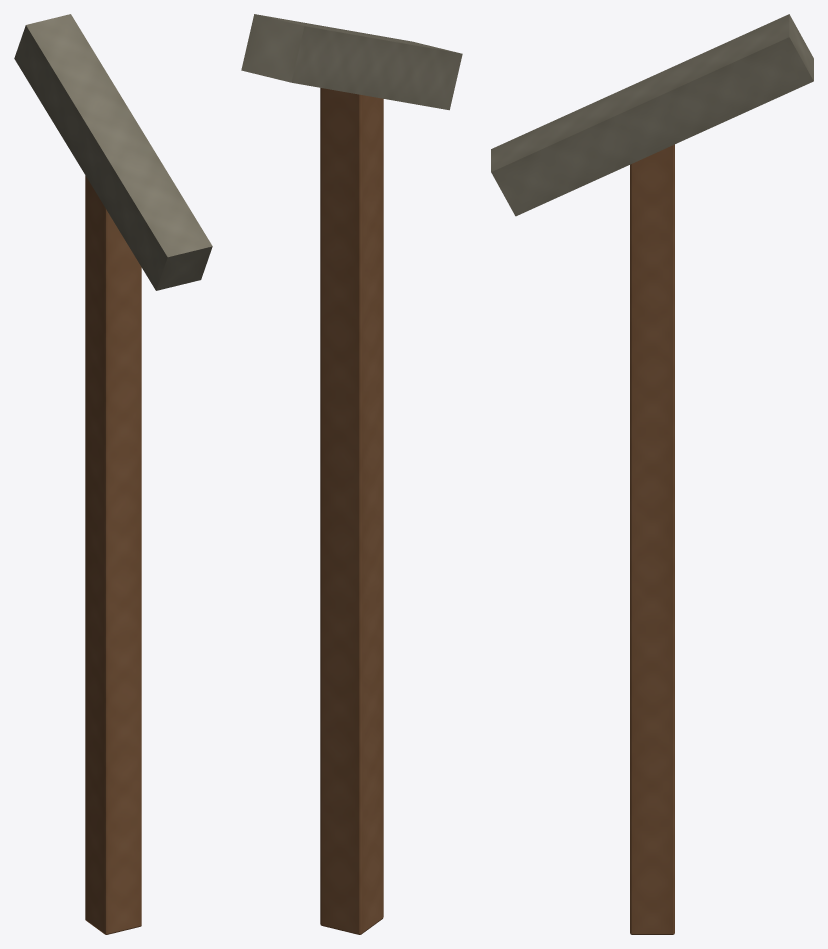
Rendered from MRP_StairRailStep_Left.fbx.
3 renders of one model, left to right at view 1: azimuth 30°, elevation 25°; view 2: azimuth 150°, elevation 25°; view 3: azimuth 270°, elevation 25°, orthographic. The views are drawn at different scales.
Parts seen in each view (by area): view 1: Body; view 2: Body; view 3: Body.
Part boxes in pixels (left/top/right/bottom): Body: left=14, top=14, right=212, bottom=934; Body: left=241, top=14, right=462, bottom=934; Body: left=491, top=14, right=813, bottom=934.
Size of the model in its own units: 0.055 by 0.9996 by 0.3246.
